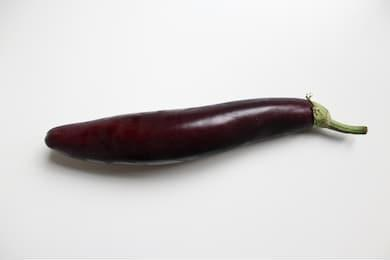eggplant: (45, 96, 367, 164)
